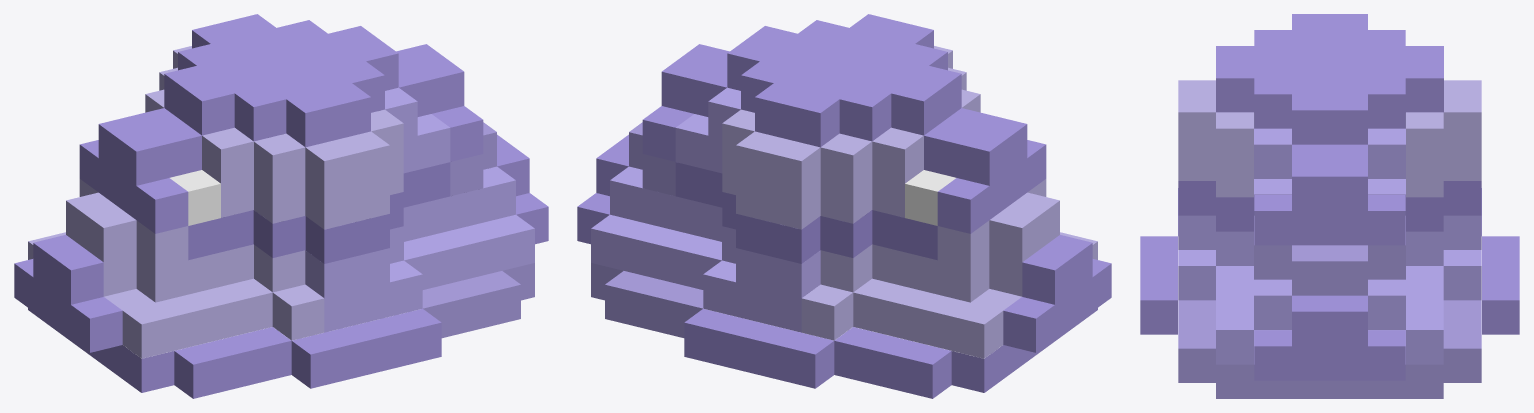
Rendered from 1764_hat_purple-monhat.glb.
3 views of the same model, side by side, from view 1: azimuth 30°, elevation 25°; view 2: azimuth 150°, elevation 25°; view 3: azimuth 270°, elevation 25° (orthographic).
Size of the model in its own units: 14 by 7 by 10.
